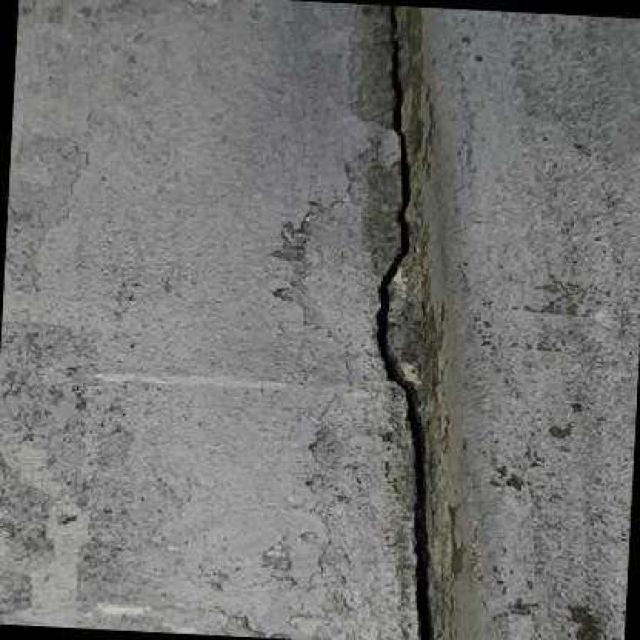D00: (373, 3, 429, 640)
